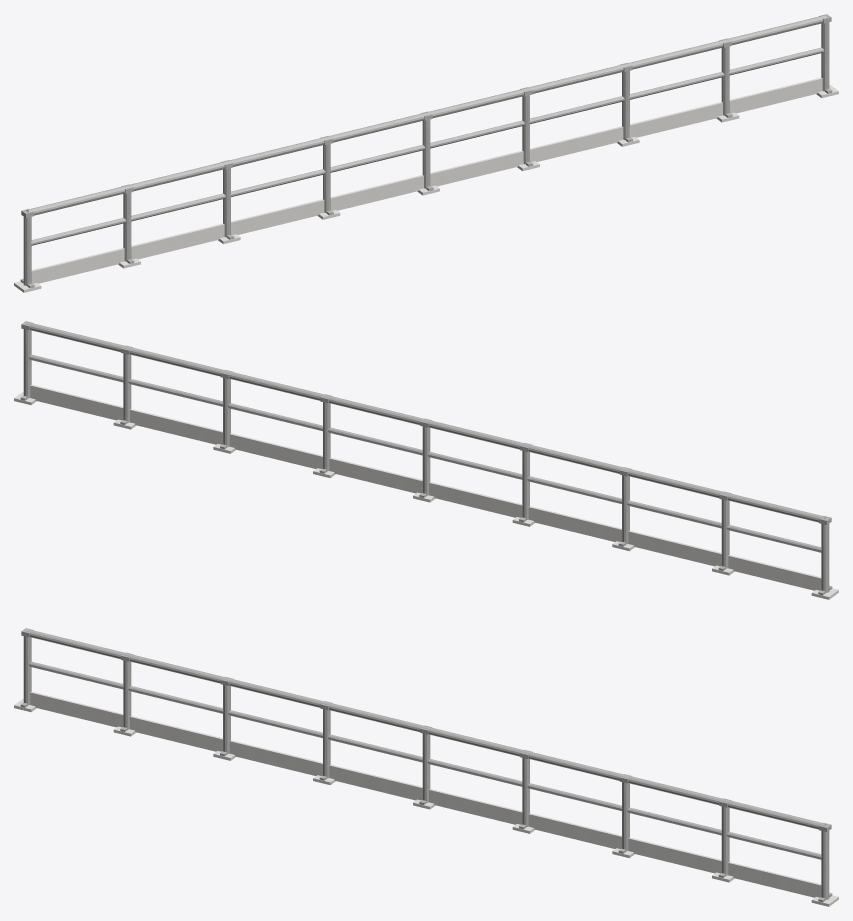
Rendered from fallsrail.gltf.
3 views of the same model, one above another, from view 1: azimuth 30°, elevation 25°; view 2: azimuth 150°, elevation 25°; view 3: azimuth 330°, elevation 25° (orthographic).
Parts seen in each view (by area): view 1: jx_fallsrail; view 2: jx_fallsrail; view 3: jx_fallsrail.
Boxes of the visible parts, bbox=[...] form: jx_fallsrail: bbox=[14, 14, 838, 292]; jx_fallsrail: bbox=[14, 321, 838, 599]; jx_fallsrail: bbox=[14, 628, 838, 906].
Size of the model in its own units: 12.26 by 1.11 by 0.26.
Materials: 2 (2 with a texture image).
